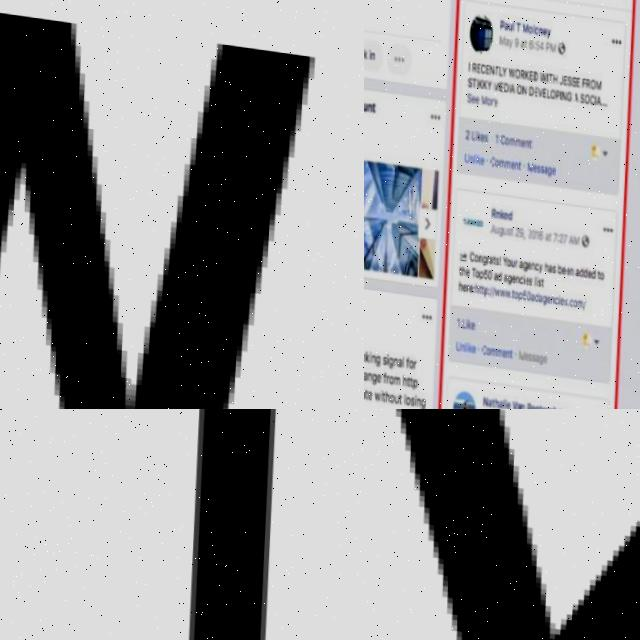0: (538, 30, 543, 41)
1: (521, 280, 526, 291), (534, 30, 538, 40), (482, 261, 486, 269)
2: (536, 220, 543, 231), (527, 29, 532, 40)
3: (561, 223, 566, 234), (551, 222, 555, 233), (519, 406, 523, 409)
5: (513, 27, 518, 38), (517, 218, 522, 228)
A: (566, 224, 573, 234), (396, 350, 401, 361), (489, 214, 494, 225), (509, 73, 514, 84), (572, 81, 577, 91), (596, 84, 601, 94), (503, 12, 507, 21), (518, 250, 522, 259), (504, 28, 508, 36), (519, 30, 523, 38), (543, 223, 547, 231), (493, 264, 497, 272), (529, 283, 533, 291), (486, 390, 490, 398), (515, 394, 519, 402), (575, 257, 578, 266), (497, 391, 500, 400), (543, 156, 546, 164), (488, 247, 491, 255), (548, 254, 551, 262), (503, 265, 506, 273), (537, 284, 540, 292), (534, 344, 537, 352), (364, 364, 365, 373)
B: (557, 253, 561, 263), (503, 406, 506, 409)
C: (487, 146, 495, 157), (498, 125, 505, 136), (467, 242, 474, 253), (479, 335, 486, 346), (479, 54, 485, 66), (588, 83, 595, 93), (553, 286, 557, 295), (567, 288, 571, 296), (518, 266, 521, 275), (534, 253, 537, 261), (489, 405, 492, 409)
D: (531, 61, 539, 71), (502, 72, 509, 83), (506, 201, 511, 211), (528, 76, 533, 86), (582, 255, 586, 267), (578, 255, 582, 266), (590, 257, 594, 268), (496, 262, 500, 273), (479, 403, 486, 409), (534, 283, 537, 291)
E: (562, 64, 567, 75), (484, 55, 489, 65), (365, 385, 371, 393), (528, 60, 532, 71), (575, 66, 579, 77), (498, 72, 502, 83), (541, 77, 545, 88), (469, 313, 474, 321), (476, 54, 480, 64), (533, 76, 537, 86), (375, 366, 379, 375), (479, 148, 483, 157), (526, 251, 530, 260), (510, 265, 514, 274), (474, 87, 478, 95), (520, 129, 524, 137), (550, 157, 554, 165), (503, 202, 507, 210), (561, 256, 565, 264), (564, 256, 568, 264), (586, 259, 590, 267), (464, 260, 468, 268), (470, 336, 474, 344), (542, 345, 546, 353), (541, 397, 545, 405), (556, 399, 560, 407), (480, 124, 483, 133), (533, 154, 536, 163), (524, 267, 527, 276), (546, 285, 549, 294), (505, 392, 508, 401), (542, 17, 545, 25), (471, 87, 474, 95), (492, 89, 495, 97), (510, 152, 513, 160), (462, 275, 465, 283), (468, 276, 471, 284), (559, 287, 562, 295), (501, 340, 504, 348), (524, 343, 527, 351), (530, 396, 533, 404), (485, 405, 489, 409), (493, 406, 497, 409)
F: (580, 66, 586, 77), (404, 348, 408, 360), (381, 364, 385, 376)
G: (418, 390, 426, 402), (373, 348, 380, 360), (565, 80, 572, 91), (386, 349, 391, 362), (370, 366, 375, 378), (546, 156, 551, 167), (521, 251, 526, 262), (506, 265, 511, 276), (497, 217, 501, 228), (481, 247, 485, 256), (541, 286, 545, 294), (538, 345, 541, 354), (548, 398, 551, 407)
H: (551, 63, 558, 74), (401, 367, 406, 379), (383, 383, 388, 395), (551, 395, 555, 406), (543, 252, 547, 262), (460, 258, 464, 268), (457, 274, 461, 282), (474, 276, 477, 284), (494, 390, 497, 398)
I: (54, 409, 364, 640), (474, 121, 477, 132), (545, 62, 548, 73), (473, 144, 476, 154), (385, 346, 387, 358), (367, 344, 369, 355), (378, 383, 380, 394), (412, 387, 414, 398), (368, 42, 370, 52), (467, 53, 469, 63), (507, 73, 509, 83), (559, 79, 561, 89), (594, 83, 596, 93), (464, 311, 466, 319), (475, 70, 477, 78), (522, 266, 523, 274), (535, 268, 536, 276), (557, 286, 558, 294), (466, 335, 467, 343), (504, 391, 505, 399)
J: (558, 64, 563, 75)
K: (523, 60, 529, 70), (475, 144, 480, 155), (481, 70, 486, 80), (364, 343, 368, 354), (476, 122, 480, 132), (499, 200, 503, 210), (477, 69, 481, 79), (466, 311, 470, 320), (468, 335, 471, 343), (364, 41, 366, 51)
L: (470, 122, 474, 132), (498, 57, 502, 67), (546, 78, 550, 88), (471, 144, 474, 154), (461, 310, 464, 319), (401, 348, 403, 359), (402, 386, 404, 397), (511, 12, 513, 22), (532, 14, 534, 24), (533, 267, 534, 276), (464, 334, 465, 342), (502, 390, 503, 398)
M: (521, 13, 528, 24), (480, 85, 487, 96), (492, 71, 499, 82), (498, 26, 505, 36), (549, 32, 556, 42), (525, 151, 532, 161), (571, 225, 578, 235), (595, 69, 602, 79), (504, 151, 510, 160), (495, 339, 501, 348), (393, 369, 399, 377), (508, 128, 514, 136), (498, 151, 504, 159), (489, 338, 495, 346), (560, 399, 566, 407), (575, 289, 581, 297), (517, 341, 523, 349), (514, 130, 520, 136), (496, 406, 502, 409)
N: (0, 0, 323, 409), (487, 56, 495, 66), (559, 79, 566, 90), (520, 75, 527, 85), (365, 96, 371, 105), (391, 350, 397, 359), (481, 388, 487, 397), (366, 365, 370, 374), (495, 201, 499, 210), (370, 348, 374, 356), (415, 391, 419, 399), (538, 17, 542, 25), (523, 130, 527, 138), (505, 340, 508, 349), (519, 394, 522, 403), (370, 44, 373, 52), (469, 147, 472, 155), (514, 152, 517, 160), (478, 246, 481, 254), (530, 252, 533, 260), (569, 257, 572, 265), (515, 266, 518, 274), (549, 286, 552, 294), (460, 335, 463, 343), (534, 396, 537, 404)
O: (583, 82, 590, 94), (513, 58, 520, 69), (515, 74, 522, 85), (548, 78, 555, 89), (406, 352, 413, 362), (589, 68, 596, 78), (387, 368, 393, 377), (598, 260, 604, 269), (387, 387, 393, 395), (403, 389, 409, 397), (486, 88, 490, 97), (528, 15, 532, 23), (534, 16, 538, 24), (504, 127, 508, 135), (473, 245, 477, 253), (505, 249, 509, 257), (572, 289, 576, 297), (485, 338, 489, 346), (474, 261, 477, 270), (494, 150, 497, 158), (514, 282, 517, 290)
P: (410, 371, 417, 383), (555, 79, 560, 90), (545, 31, 549, 42), (499, 10, 503, 20), (478, 262, 482, 270), (483, 278, 486, 287)
R: (584, 67, 590, 79), (490, 198, 495, 209), (525, 392, 530, 403), (471, 54, 476, 64), (519, 60, 524, 70), (412, 353, 415, 361), (384, 368, 387, 376), (544, 397, 547, 405), (490, 89, 492, 97), (486, 247, 488, 255), (514, 250, 516, 258), (465, 276, 467, 284)
S: (570, 66, 576, 76), (466, 83, 471, 94), (566, 65, 571, 76), (466, 68, 471, 78), (579, 82, 584, 92), (381, 348, 385, 359), (551, 255, 555, 263), (540, 155, 543, 164), (527, 342, 530, 351), (409, 390, 412, 398), (483, 125, 486, 133), (536, 155, 539, 163), (506, 219, 509, 227), (494, 248, 497, 256), (527, 268, 530, 276), (536, 269, 539, 277), (562, 288, 565, 296), (531, 343, 534, 351)
T: (493, 56, 498, 67), (515, 12, 520, 22), (470, 259, 475, 269), (547, 63, 552, 73), (404, 368, 408, 379), (408, 368, 412, 379), (380, 384, 384, 395), (396, 386, 400, 397), (371, 95, 375, 105), (457, 258, 461, 268), (471, 69, 475, 79), (517, 151, 520, 162), (523, 28, 526, 39), (539, 267, 542, 278), (509, 217, 512, 227), (547, 222, 550, 232), (596, 259, 599, 268), (528, 130, 531, 138), (491, 247, 494, 255), (508, 340, 511, 348), (537, 395, 540, 403), (364, 381, 366, 392), (478, 277, 480, 285), (480, 277, 482, 285), (510, 280, 512, 288), (490, 390, 492, 398)
U: (461, 143, 469, 154), (454, 333, 460, 342), (393, 388, 397, 396), (507, 13, 511, 21), (493, 217, 497, 225), (502, 218, 506, 226), (510, 249, 513, 258), (364, 95, 365, 103)
V: (537, 77, 542, 87), (510, 393, 516, 401)
W: (538, 61, 546, 73), (507, 58, 515, 69), (373, 385, 379, 394), (493, 279, 499, 288), (503, 280, 509, 289), (498, 280, 504, 288)
Y: (364, 409, 640, 640), (501, 246, 506, 257), (486, 70, 491, 81), (545, 18, 550, 28), (501, 57, 506, 67), (507, 30, 511, 41), (537, 253, 541, 264)
